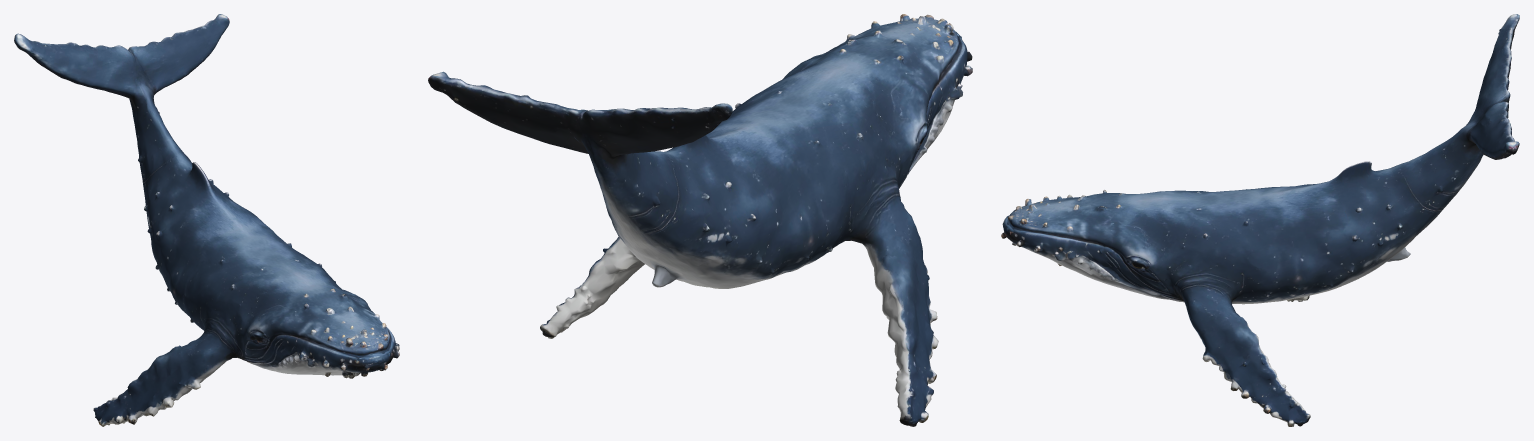
File: whale.glb
3 renders of one model, left to right at view 1: azimuth 30°, elevation 25°; view 2: azimuth 150°, elevation 25°; view 3: azimuth 270°, elevation 25°, orthographic. The views are drawn at different scales.
Parts seen in each view (by area): view 1: tripo_node_7017e034-b221-4929-be4d-1f8f5a6cc63f; view 2: tripo_node_7017e034-b221-4929-be4d-1f8f5a6cc63f; view 3: tripo_node_7017e034-b221-4929-be4d-1f8f5a6cc63f.
Part boxes in pixels (x1=…): tripo_node_7017e034-b221-4929-be4d-1f8f5a6cc63f: x1=14, y1=14, x2=399, y2=426; tripo_node_7017e034-b221-4929-be4d-1f8f5a6cc63f: x1=428, y1=14, x2=972, y2=426; tripo_node_7017e034-b221-4929-be4d-1f8f5a6cc63f: x1=1001, y1=14, x2=1519, y2=426.
Bounding box in the file's own units: 0.5926 × 0.639 × 1.
1 material, 1 textured.
